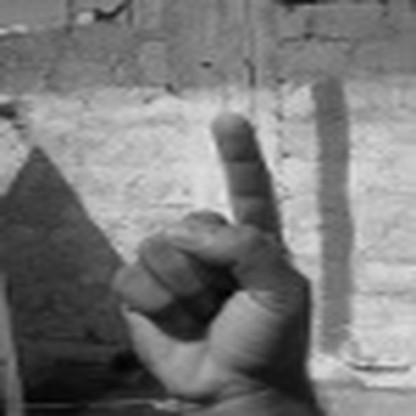d: (112, 95, 307, 416)
